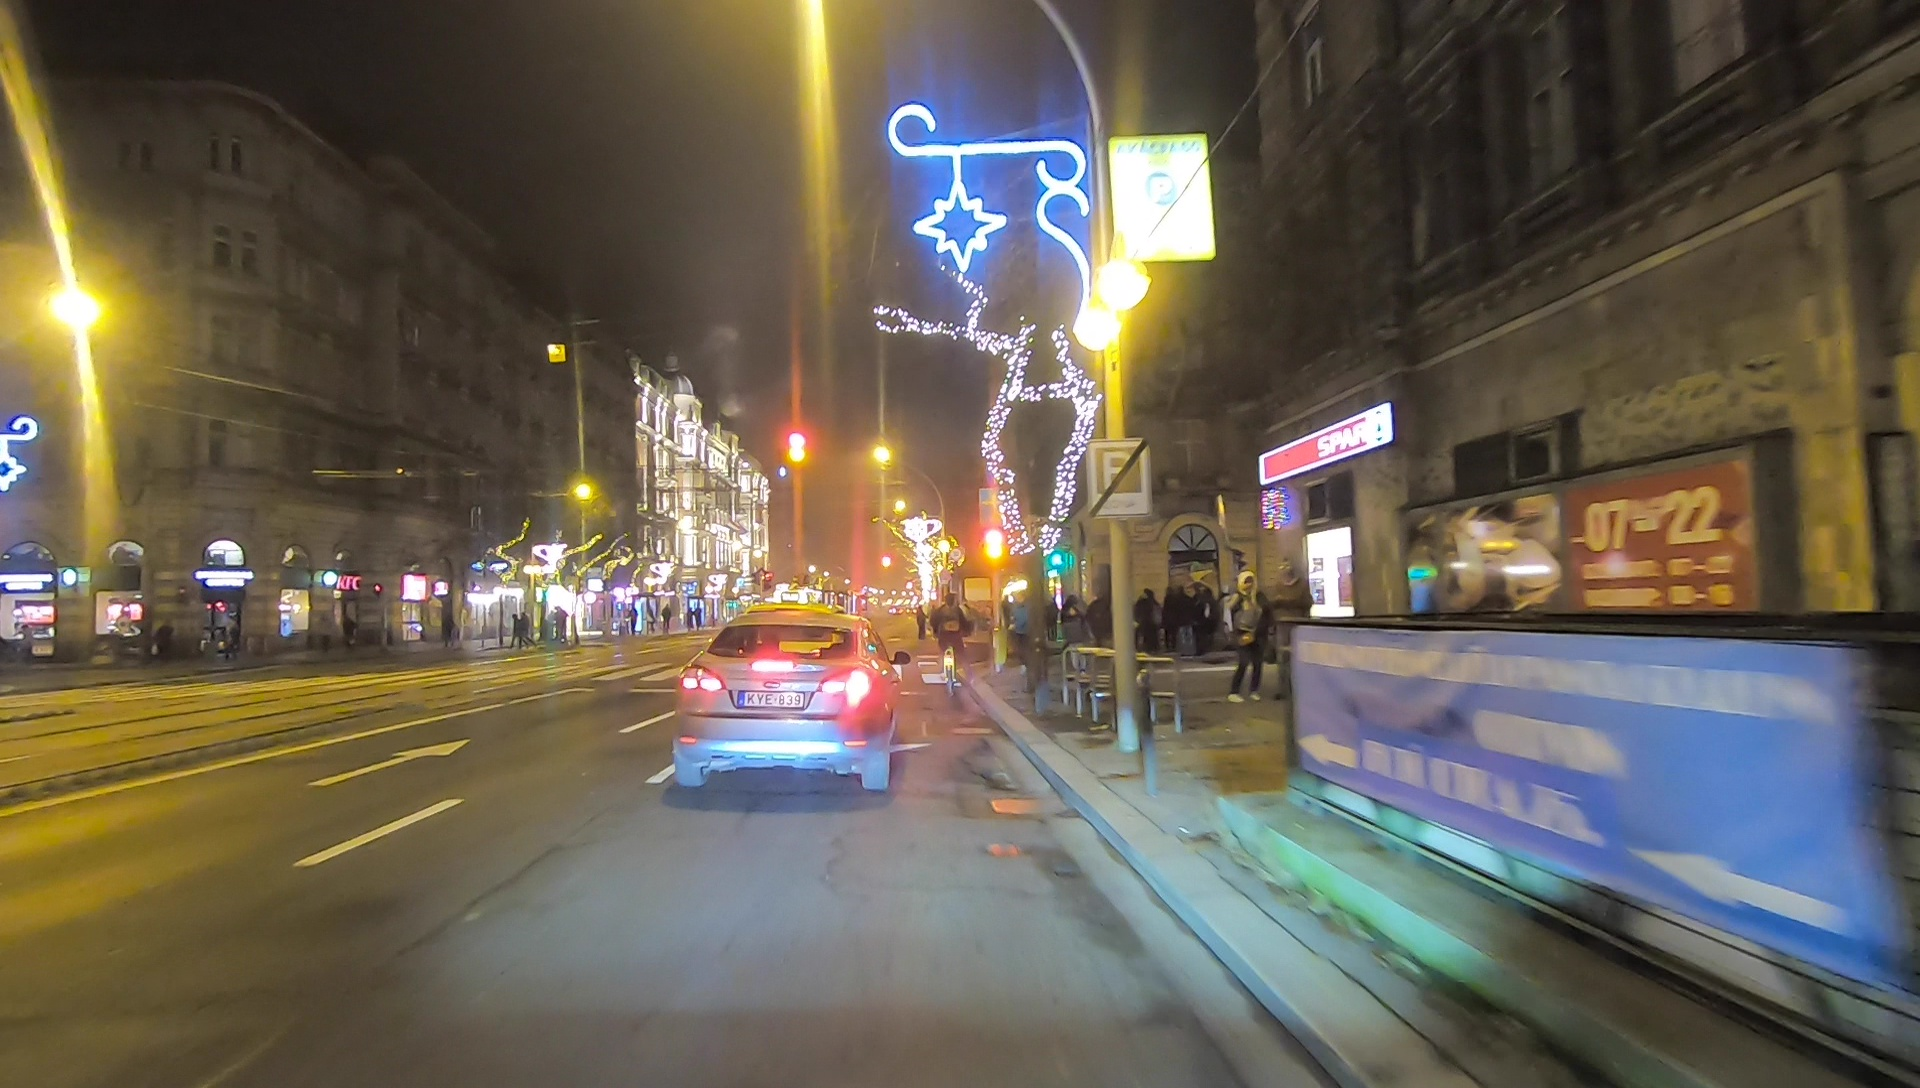person: (1225, 578, 1273, 700), (1134, 586, 1162, 652), (1179, 583, 1195, 653), (1165, 585, 1180, 650), (1202, 591, 1217, 658), (913, 600, 928, 637), (506, 610, 520, 650), (517, 611, 530, 645), (629, 601, 636, 635), (662, 602, 670, 629)
